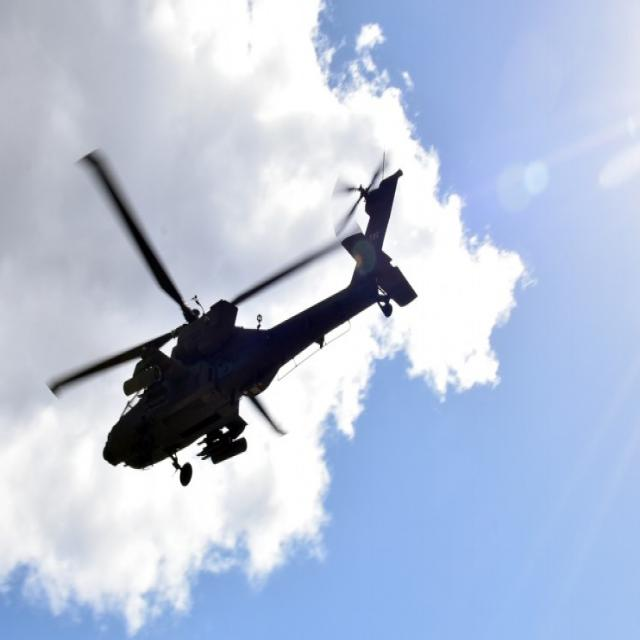helicopter: (7, 93, 457, 548)
